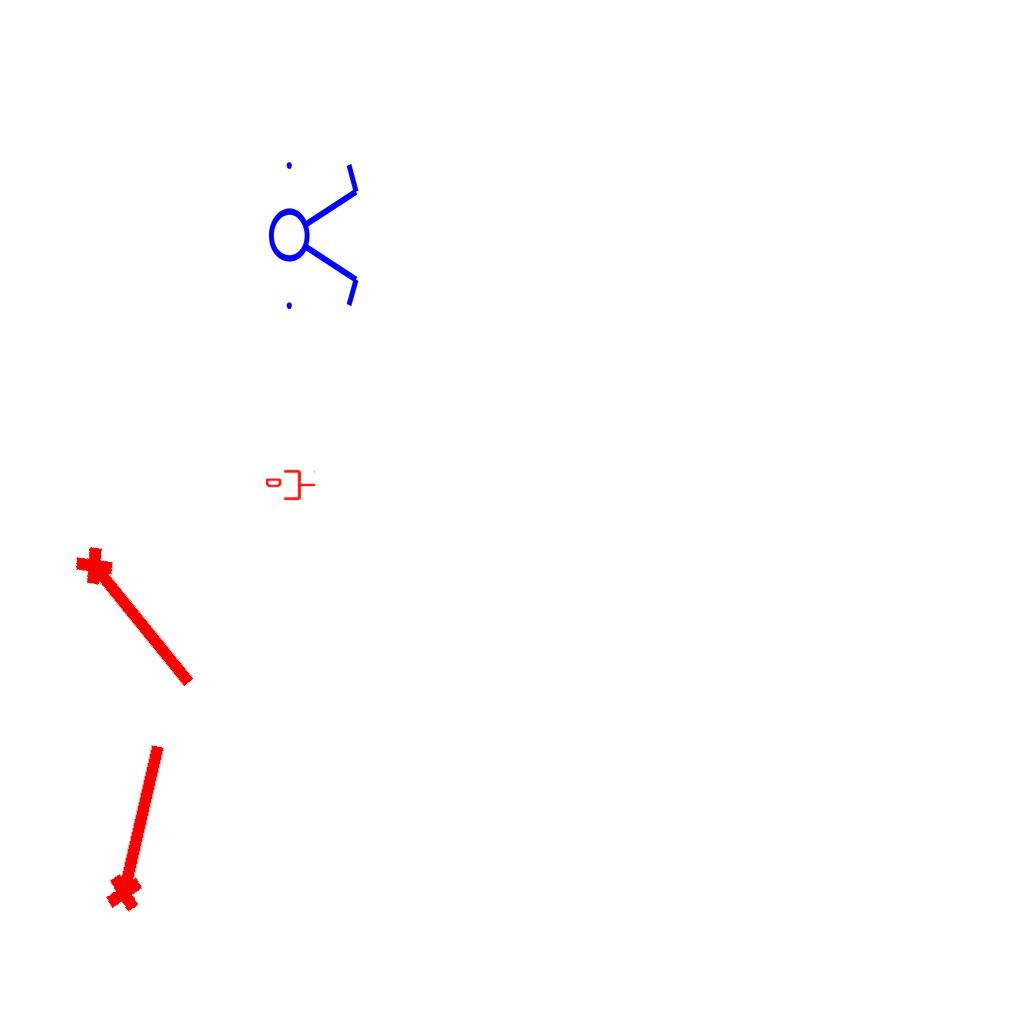ASR_Ansaugoeffnung: (65, 534, 213, 700), (94, 735, 180, 917)
Datenanschluss_einfach: (266, 468, 316, 502)
Serienschalter: (267, 150, 363, 318)
